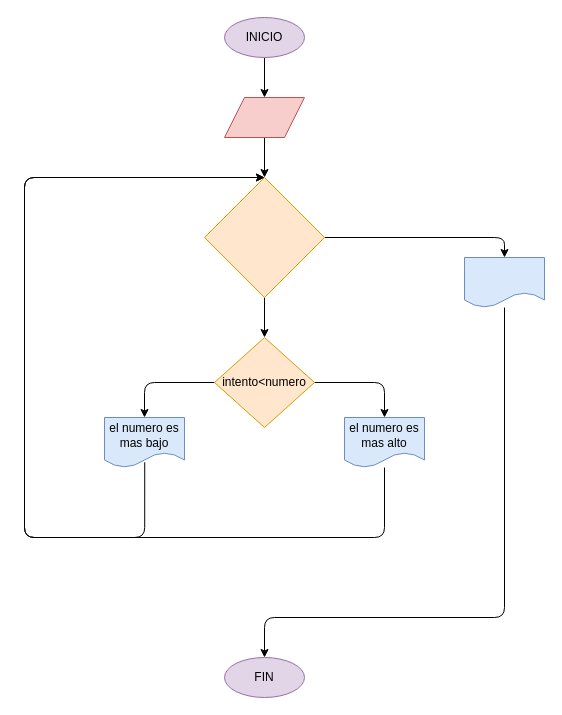
This 562x715 diagram has some shape labels left out. The centre of each missing label's shape, as x and y in pixels:
"adivinaste el numero" goes at point 504,282.
"intento !=numero" goes at point 264,237.
"numero intento" goes at point 264,117.
